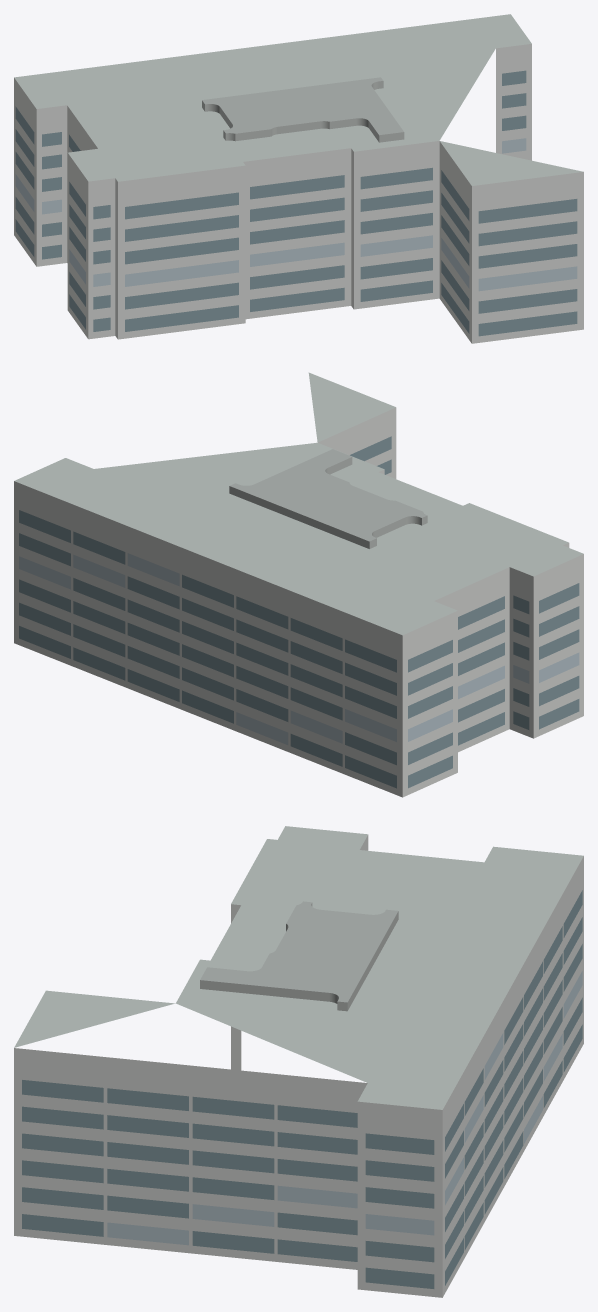
The model's file is apt-a10023788.glb.
The picture shows the model from 3 angles, top to bottom: view 1: azimuth 30°, elevation 25°; view 2: azimuth 150°, elevation 25°; view 3: azimuth 270°, elevation 25°; orthographic projection. The views are drawn at different scales.
Visible parts, largest first — view 1: apt-a10023788; view 2: apt-a10023788; view 3: apt-a10023788.
Boxes of the visible parts, x1,y1,x2,y2 form: apt-a10023788: [14, 14, 583, 343]; apt-a10023788: [14, 372, 583, 797]; apt-a10023788: [14, 826, 583, 1297].
Bounding box in the file's own units: 65.76 × 21.25 × 55.79.
